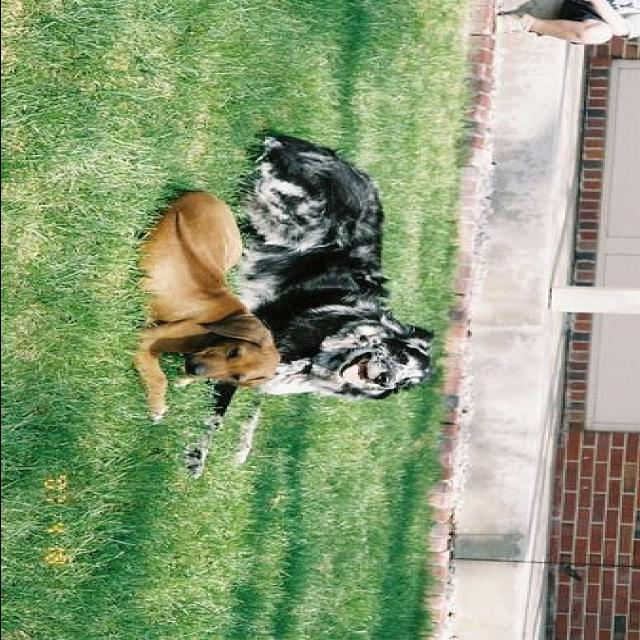rhodesian_ridgeback: (137, 186, 283, 426)
